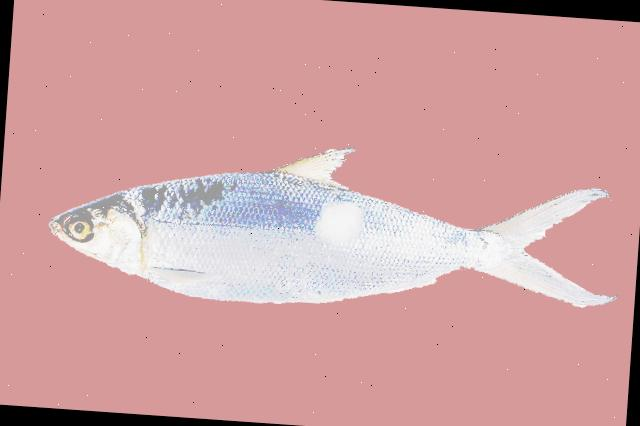Fungal Disease -Saprolegniasis-: (50, 148, 613, 307)
